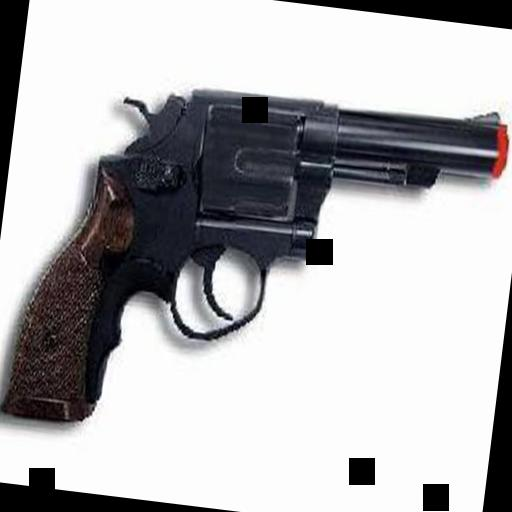Handgun: (0, 50, 510, 476)
